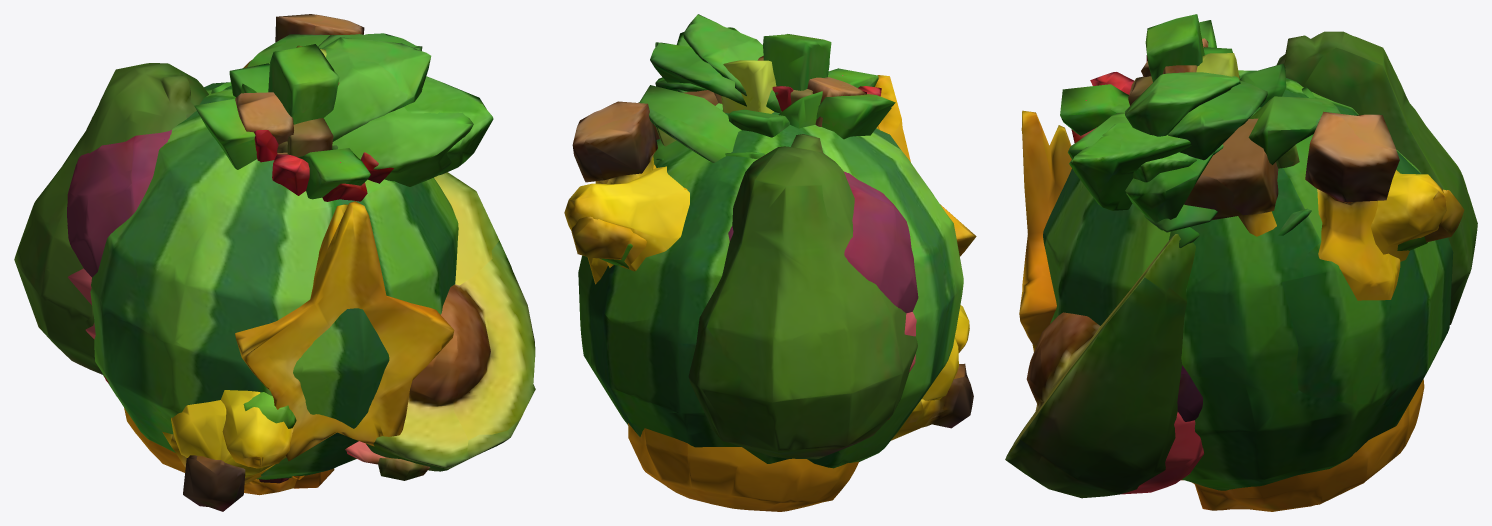
Rendered from fruits.glb.
3 views of the same model, side by side, from view 1: azimuth 30°, elevation 25°; view 2: azimuth 150°, elevation 25°; view 3: azimuth 270°, elevation 25° (orthographic). The views are drawn at different scales.
Visible parts, largest first — view 1: watermelon, avocado, starfruit, pineapple, grapes, passionfruit, greenapple, banana, lemon, apple, mango, pomegranate (+4 smaller); view 2: avocado, watermelon, pineapple, banana, lemon, passionfruit, guava, starfruit, grapes, pear, dragonfruit, strawberry (+2 smaller); view 3: watermelon, avocado, pineapple, banana, starfruit, bananas, guava, apple, lemon, grapes, pear, cherry (+6 smaller).
Part boxes in pixels (x1,y1,x2,y2): watermelon: (90,82,458,479); avocado: (14,63,535,471); starfruit: (235,60,454,461); pineapple: (124,44,370,495); grapes: (164,37,431,144); passionfruit: (67,130,171,277); greenapple: (332,107,473,186); banana: (162,14,364,511); lemon: (221,390,293,468); apple: (404,76,493,174); mango: (171,400,286,477); pomegranate: (254,130,393,201); avocado: (688,134,917,459); watermelon: (578,56,963,468); pineapple: (628,34,895,511); banana: (572,101,973,440); lemon: (564,166,969,352); passionfruit: (728,171,918,313); guava: (639,85,916,371); starfruit: (571,75,976,266); grapes: (683,14,866,126); pear: (650,42,812,106); dragonfruit: (721,60,776,113); strawberry: (656,91,822,160); watermelon: (1043,65,1453,490); avocado: (1005,31,1477,498); pineapple: (1060,14,1424,511); banana: (1305,111,1400,300); starfruit: (1019,110,1464,351); bananas: (1184,118,1278,236); guava: (1121,96,1340,494); apple: (1069,123,1191,210); lemon: (1370,170,1446,261); grapes: (1125,38,1240,136); pear: (1168,80,1267,160); cherry: (1125,76,1214,230).
Size of the model in its own units: 0.1471 by 0.1741 by 0.1575.
1 material, 1 textured.
